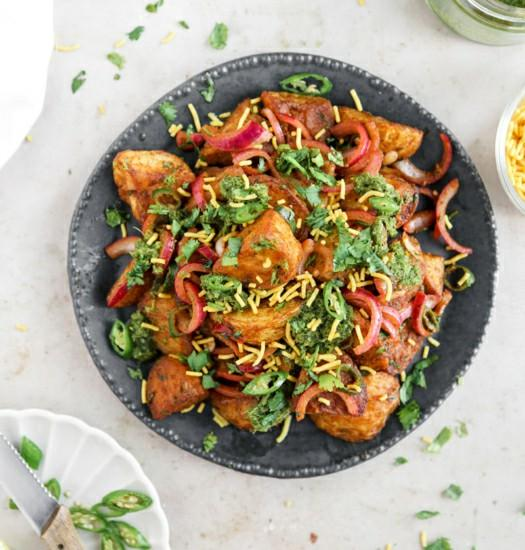AlooMasala: (105, 91, 471, 438)
